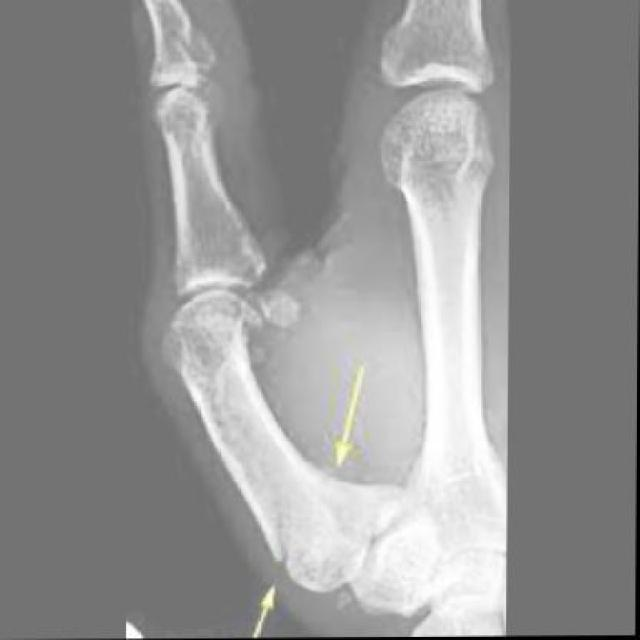Fracture: (252, 460, 401, 587)
